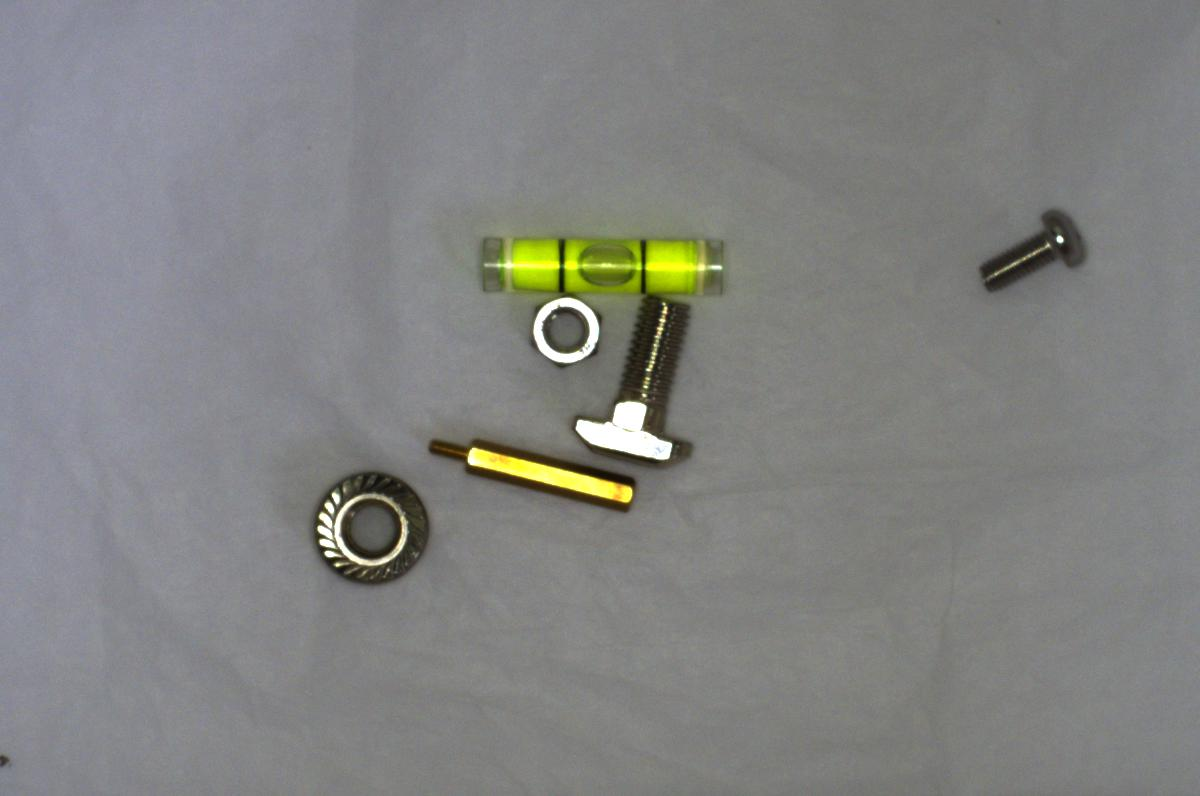Flange nut: (306, 463, 431, 582)
Hexagon nut: (525, 294, 605, 367)
Hexagon pillar: (414, 426, 637, 518)
Horizontal bubble: (475, 227, 724, 299)
Round head screw: (965, 193, 1086, 292)
T-shaped screw: (579, 290, 702, 468)
